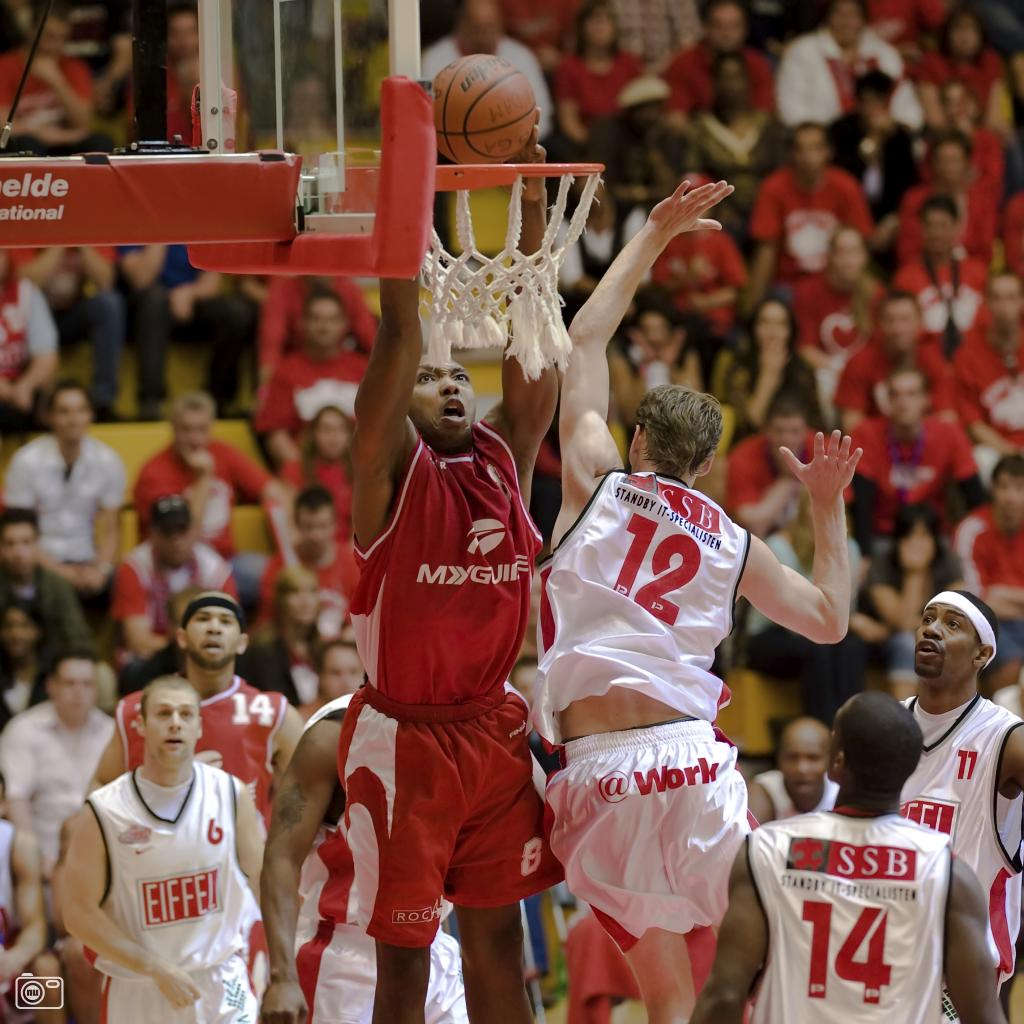basketball: (436, 53, 535, 162)
